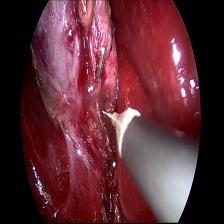Hook: (94, 102, 151, 171)
